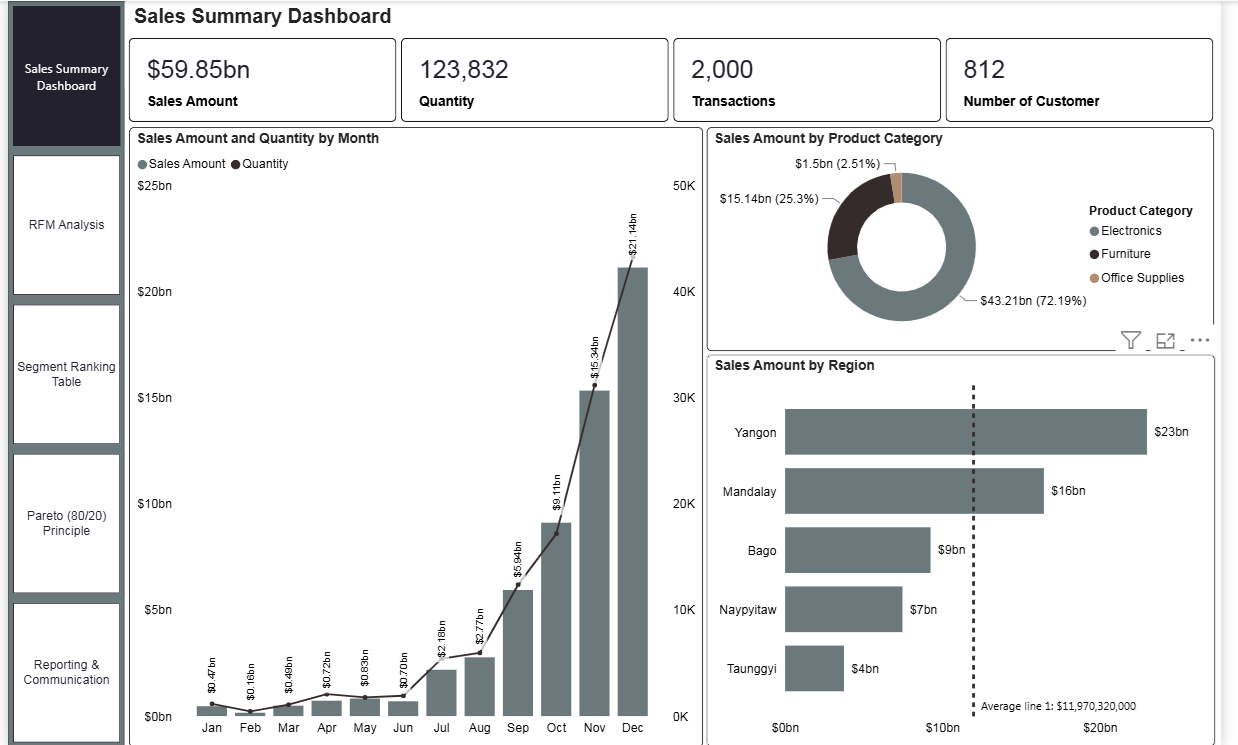

The dashboard page shown, as its layout file describes it:
{"tool":"powerbi","page":{"name":"Sales Summary Dashboard","canvas":[1300,800],"ordinal":0},"visuals":[{"type":"cardVisual","fields":{"Data":["Measure.Sales Amount","Measure.Quantity","Measure.Transactions","Measure.Number of Customer"]},"box":[125,35,1175,100],"z":0},{"type":"lineStackedColumnComboChart","fields":{"Category":["DateTable.Month"],"Y":["Measure.Sales Amount"],"Y2":["Measure.Quantity"]},"box":[130,135,615,665],"z":1000},{"type":"donutChart","fields":{"Category":["raw_rfm.Product Category"],"Y":["Measure.Sales Amount"]},"box":[750,135,544,240],"z":2000},{"type":"clusteredBarChart","fields":{"Category":["rfm_Analysis.Region"],"Y":["Measure.Sales Amount"]},"box":[750,380,545,420],"z":3000},{"type":"textbox","box":[130,0,800,35],"z":4000},{"type":"shape","box":[0,0,125,800],"z":5000},{"type":"pageNavigator","box":[5,5,115,790],"z":5501}]}

Visuals, with their boxes on the page's 1300x800 design canvas (x1, y1, x2, y2). These are canvas units, not pixel positions in the 1238x745 screenshot, which may show the page scaled, cropped or inside an application window:
cardVisual - Measure.Sales Amount x Measure.Quantity: {"left": 125, "top": 35, "right": 1300, "bottom": 135}
lineStackedColumnComboChart - DateTable.Month x Measure.Sales Amount: {"left": 130, "top": 135, "right": 745, "bottom": 800}
donutChart - raw_rfm.Product Category x Measure.Sales Amount: {"left": 750, "top": 135, "right": 1294, "bottom": 375}
clusteredBarChart - rfm_Analysis.Region x Measure.Sales Amount: {"left": 750, "top": 380, "right": 1295, "bottom": 800}
textbox: {"left": 130, "top": 0, "right": 930, "bottom": 35}
shape: {"left": 0, "top": 0, "right": 125, "bottom": 800}
pageNavigator: {"left": 5, "top": 5, "right": 120, "bottom": 795}
